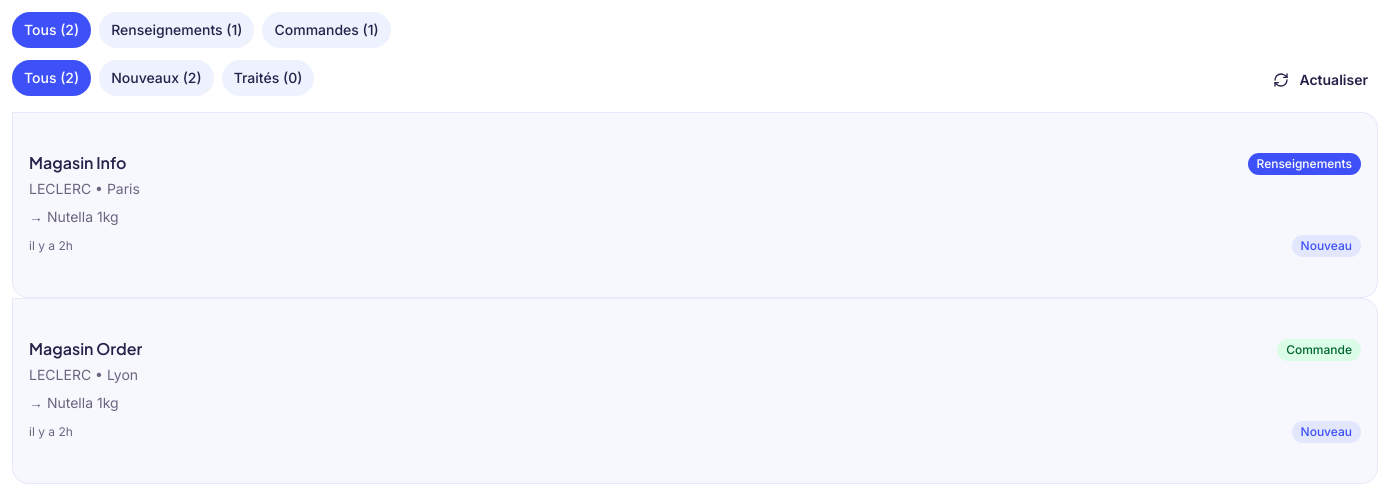
SupplierRequestList › resets type filter when "Tous" type chip is clicked
Filter to INFO only
Step 1. Click the radio button "Renseignements (1)" → [177, 30], box x1=99 y1=12 x2=254 y2=48
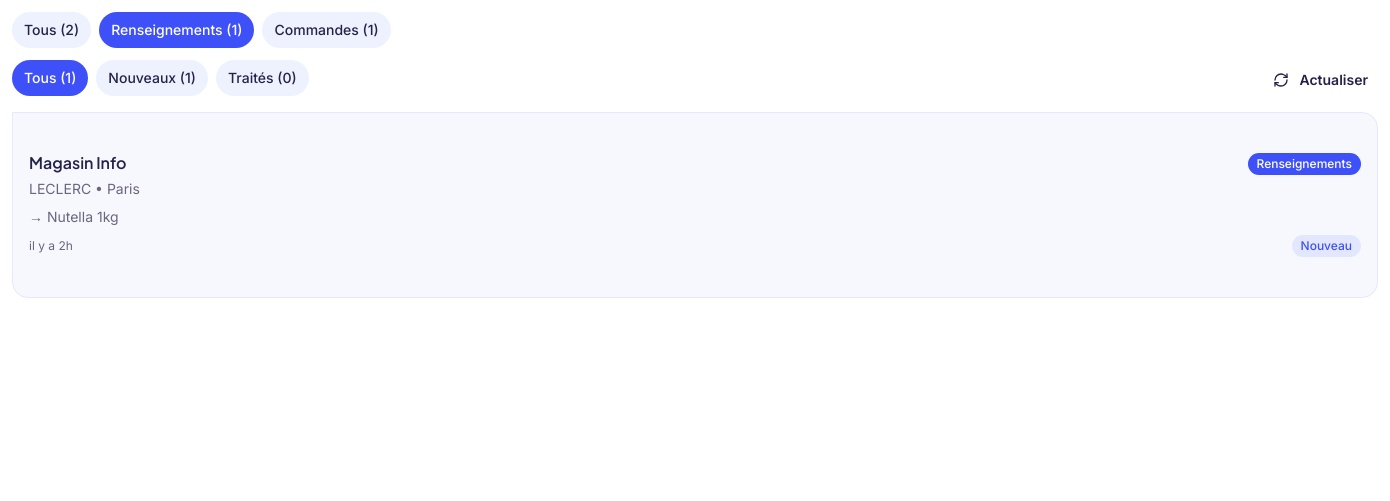
Expected: the link "Magasin Order" is gone
Click "Tous" in type group to reset
Step 2. Click the radio button "Tous (2)" → [52, 30], box x1=12 y1=12 x2=91 y2=48
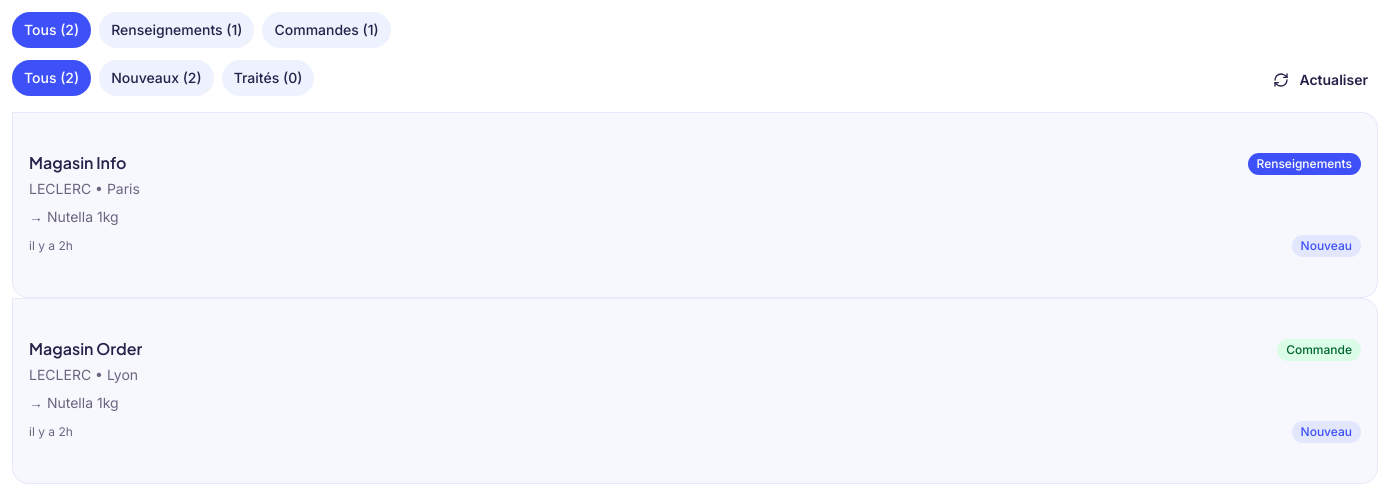
Expected: the heading "Magasin Info" is shown, x1=29 y1=153 x2=126 y2=173
Expected: the heading "Magasin Order" is shown, x1=29 y1=339 x2=142 y2=359
